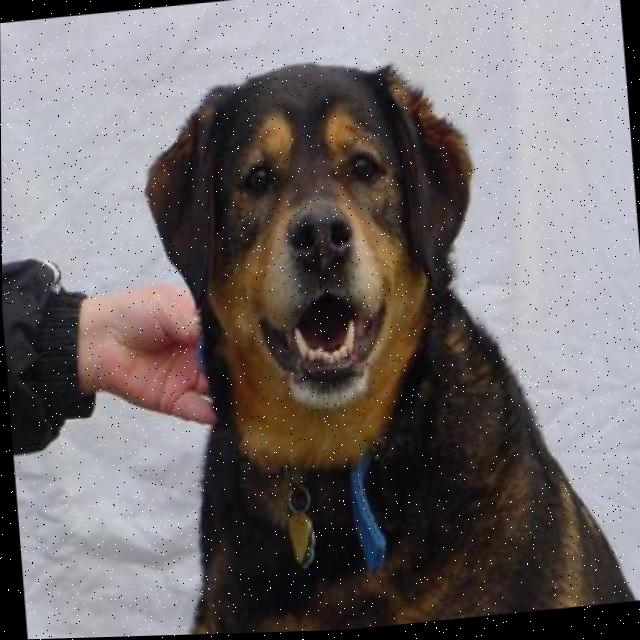dogs: (130, 34, 619, 637)
